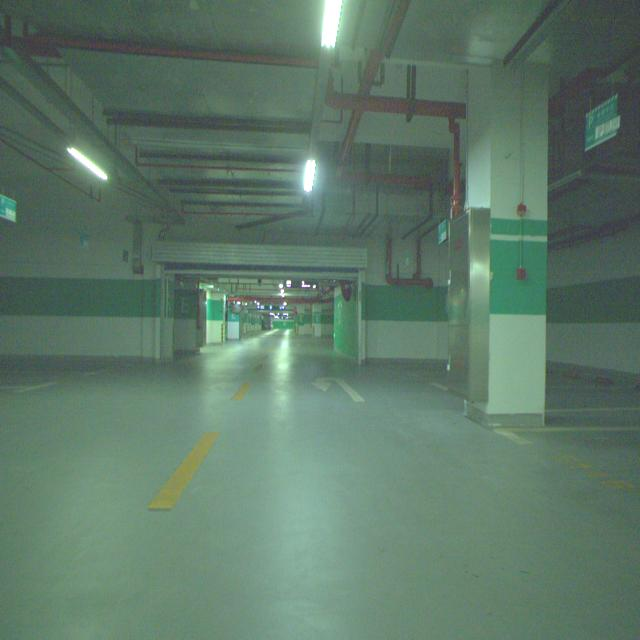pillar: (466, 64, 548, 425)
